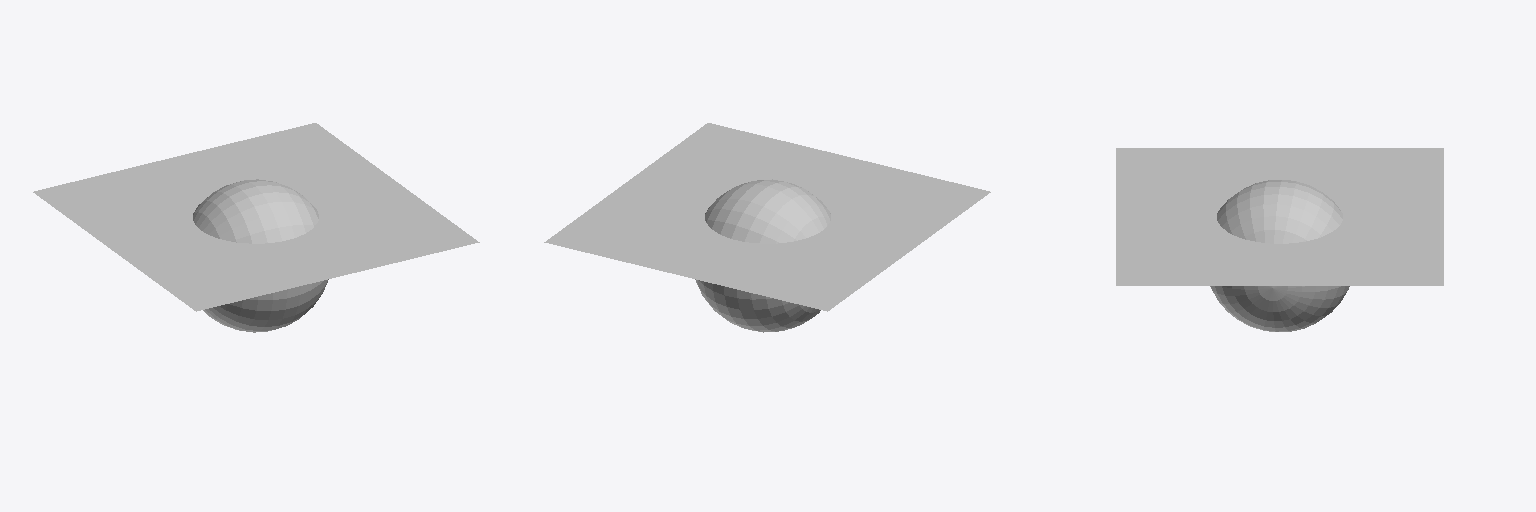
File: stadium.obj
The picture shows the model from 3 angles: view 1: azimuth 30°, elevation 25°; view 2: azimuth 150°, elevation 25°; view 3: azimuth 270°, elevation 25°; orthographic projection.
Visible parts, largest first — view 1: Outside_Plane, Sky_2_Plane.001; view 2: Outside_Plane, Sky_2_Plane.001; view 3: Outside_Plane, Sky_2_Plane.001.
Boxes of the visible parts, x1,y1,x2,y2 form: Outside_Plane: [33, 123, 479, 311]; Sky_2_Plane.001: [193, 179, 328, 332]; Outside_Plane: [544, 123, 990, 311]; Sky_2_Plane.001: [695, 179, 830, 332]; Outside_Plane: [1116, 148, 1443, 285]; Sky_2_Plane.001: [1210, 180, 1349, 331].
Bounding box in the file's own units: 593 × 278 × 593.